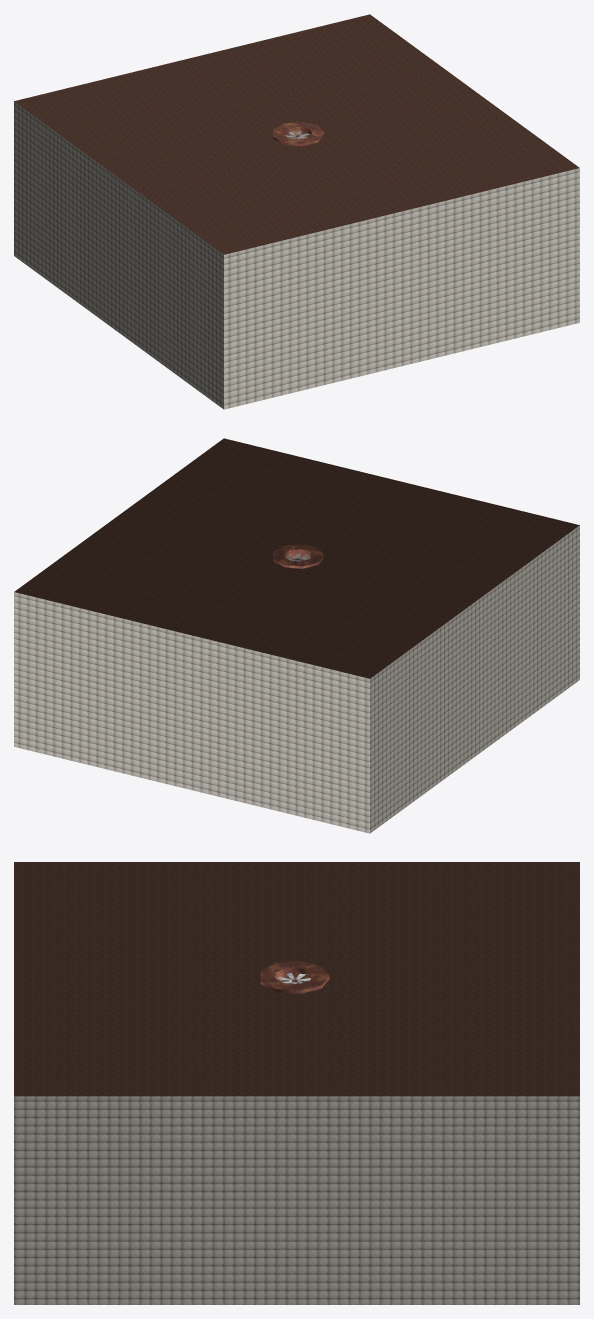
The model's file is ENVO_tunnel.obj.
3 views of the same model, one above another, from view 1: azimuth 30°, elevation 25°; view 2: azimuth 150°, elevation 25°; view 3: azimuth 270°, elevation 25° (orthographic). The views are drawn at different scales.
Visible parts, largest first — view 1: tunnel; view 2: tunnel; view 3: tunnel.
Part boxes in pixels (<box>): tunnel: <box>14,14,579,409</box>; tunnel: <box>14,438,579,833</box>; tunnel: <box>14,862,579,1304</box>.
Size of what is drawn, in the model's own units: 4015 by 1694 by 4102.
7 materials, 6 textured.
